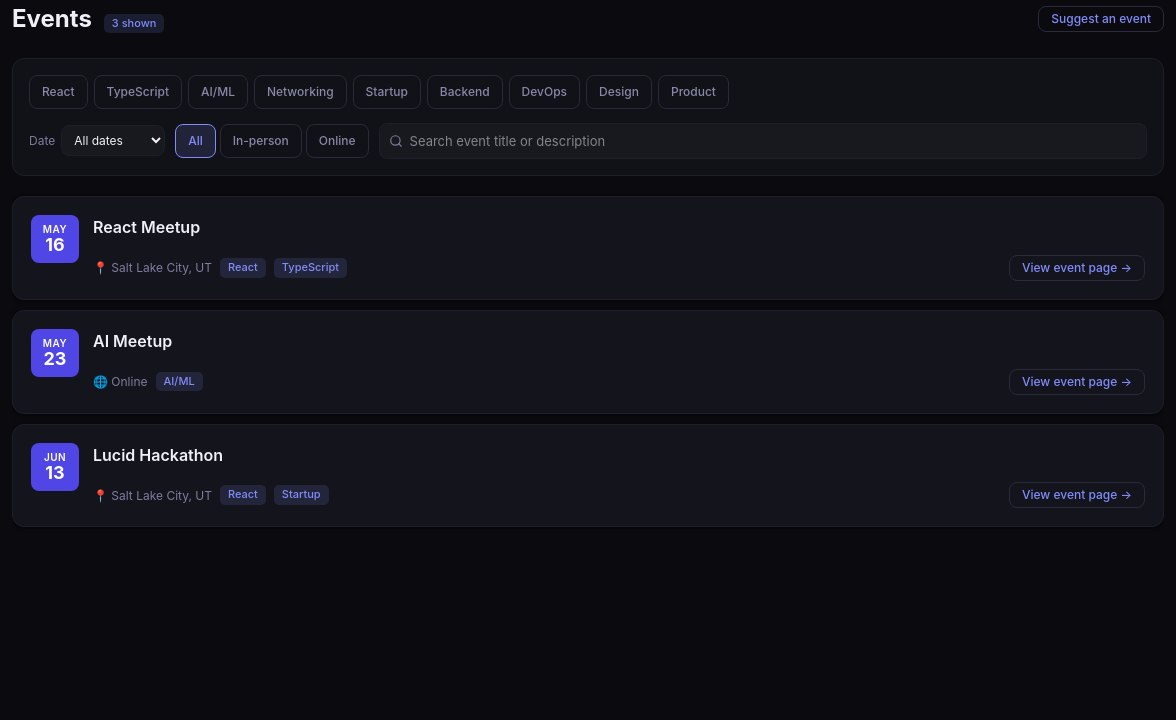
Test: EventsPage › filters by format toggle
The width and height of the screenshot is (1176, 720).
Click the button "Online". click: click(337, 141)
box: 306,124 -> 368,158
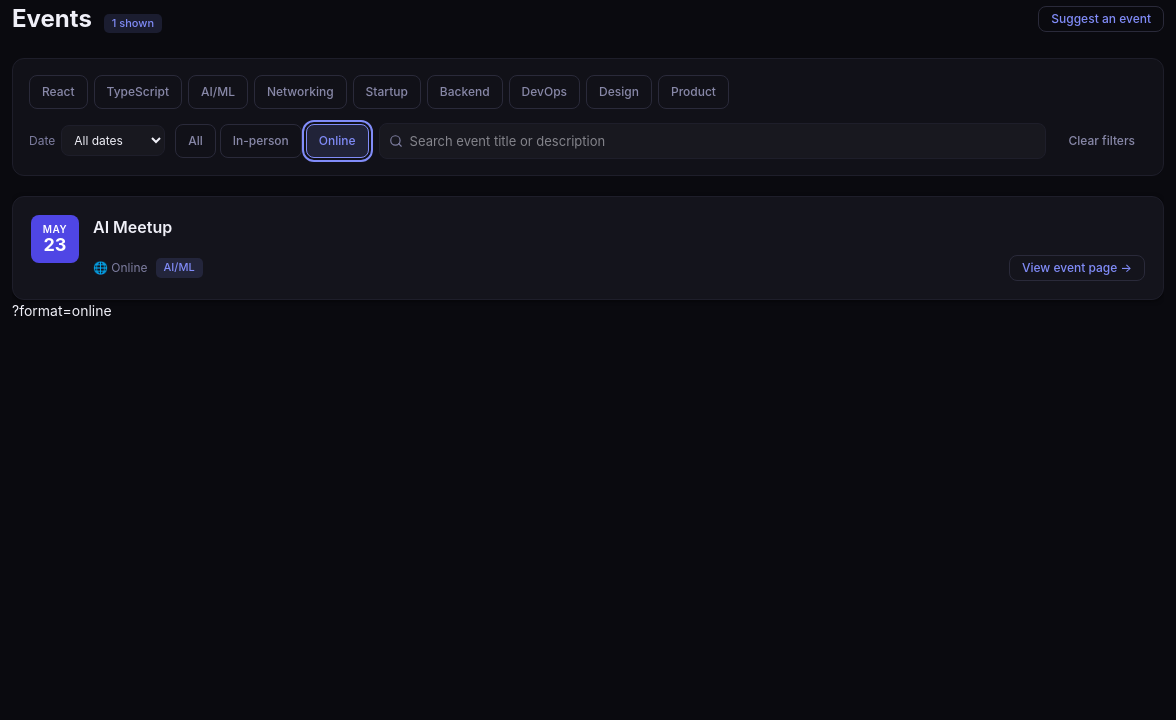
Expected: the heading "AI Meetup" is shown, 93,217 -> 172,237
Expected: the link "React Meetup" is gone
